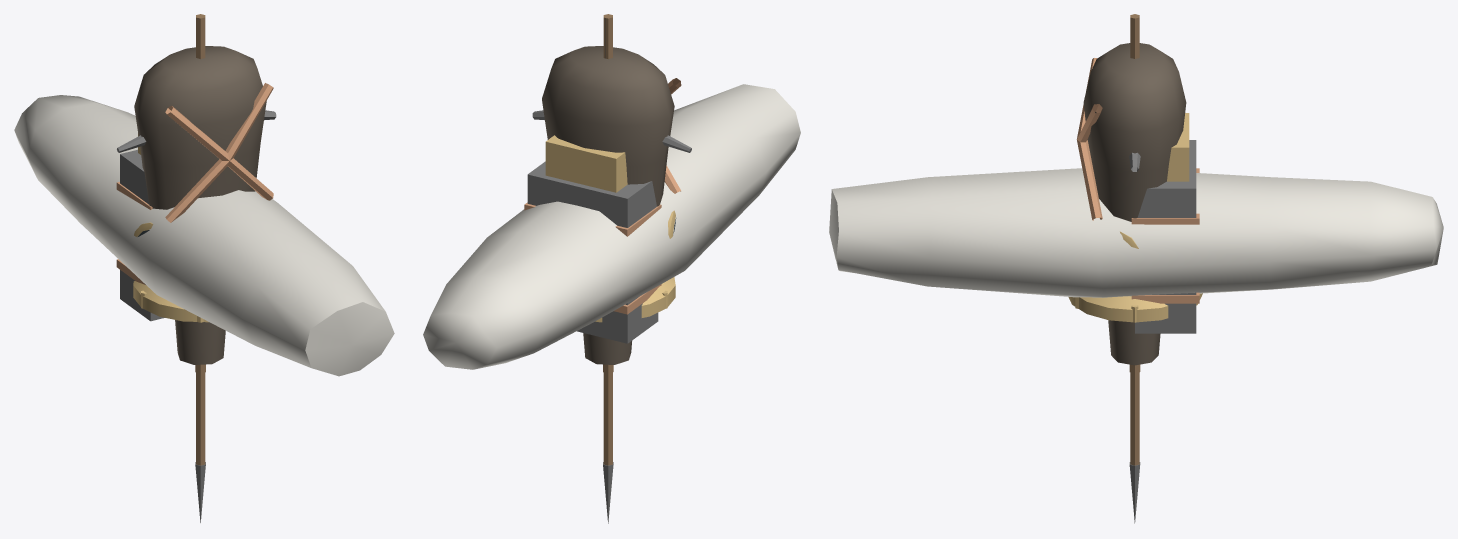
File: Diver_Parts.fbx
The picture shows the model from 3 angles, left to right: view 1: azimuth 30°, elevation 25°; view 2: azimuth 150°, elevation 25°; view 3: azimuth 270°, elevation 25°; orthographic projection.
Parts seen in each view (by area): view 1: shroud, diver_torso, diver_tank, diver_thigh, diver_stick, diver_helmet, pickaxe; view 2: shroud, diver_torso, diver_tank, diver_stick, diver_thigh, diver_helmet, pickaxe; view 3: shroud, diver_torso, diver_tank, diver_helmet, diver_thigh, diver_stick.
Part boxes in pixels (x1=…): shroud: x1=14, y1=95, x2=394, y2=376; diver_torso: x1=134, y1=46, x2=273, y2=222; diver_tank: x1=116, y1=133, x2=164, y2=321; diver_thigh: x1=175, y1=320, x2=225, y2=364; diver_stick: x1=195, y1=14, x2=205, y2=522; diver_helmet: x1=133, y1=222, x2=208, y2=322; pickaxe: x1=117, y1=110, x2=276, y2=373; shroud: x1=423, y1=84, x2=800, y2=369; diver_torso: x1=542, y1=46, x2=681, y2=206; diver_tank: x1=524, y1=135, x2=661, y2=343; diver_stick: x1=603, y1=14, x2=613, y2=523; diver_thigh: x1=583, y1=333, x2=631, y2=364; diver_helmet: x1=595, y1=210, x2=676, y2=322; pickaxe: x1=532, y1=110, x2=691, y2=373; shroud: x1=829, y1=168, x2=1443, y2=297; diver_torso: x1=1076, y1=43, x2=1186, y2=221; diver_tank: x1=1131, y1=113, x2=1199, y2=333; diver_helmet: x1=1068, y1=231, x2=1202, y2=322; diver_thigh: x1=1108, y1=320, x2=1160, y2=365; diver_stick: x1=1129, y1=14, x2=1140, y2=523.
Size of the model in its own units: 0.5338 by 1.65 by 1.81.
